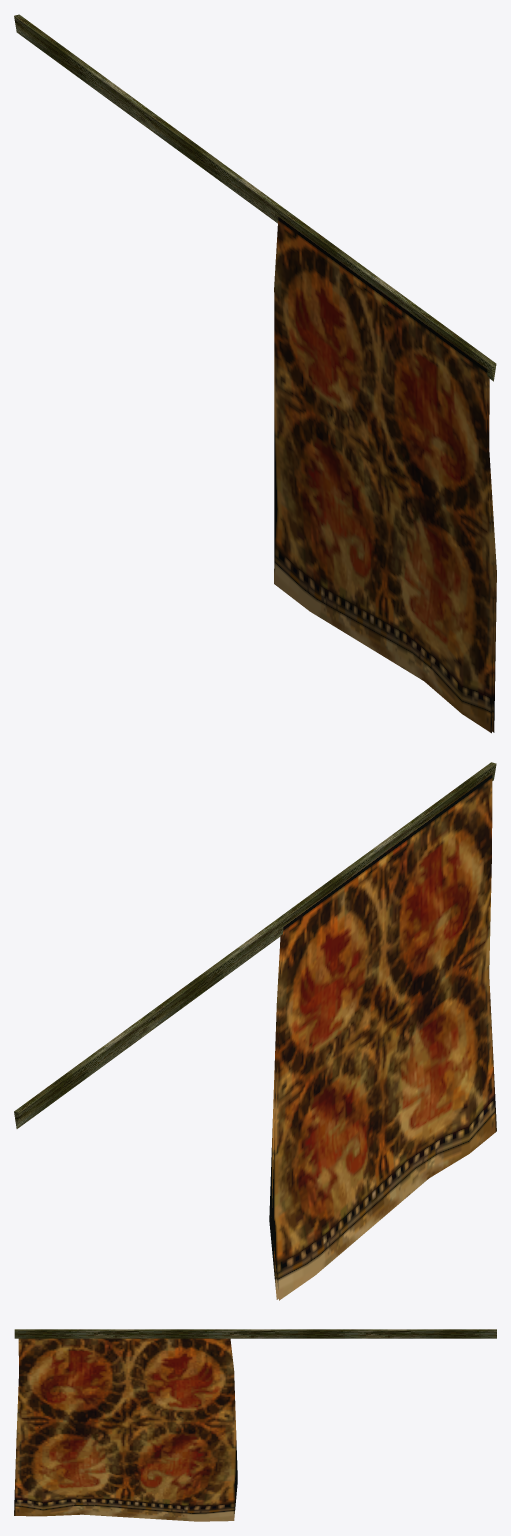
3 renders of one model, top to bottom at view 1: azimuth 30°, elevation 25°; view 2: azimuth 150°, elevation 25°; view 3: azimuth 270°, elevation 25°, orthographic. The views are drawn at different scales.
Visible parts, largest first — view 1: TN2_F2; view 2: TN2_F2; view 3: TN2_F2.
Boxes of the visible parts, bbox=[...] form: TN2_F2: bbox=[14, 14, 496, 733]; TN2_F2: bbox=[14, 762, 496, 1300]; TN2_F2: bbox=[14, 1329, 496, 1521].
Bounding box in the file's own units: 0.0394 × 1.42 × 3.23.
Materials: 2 (2 with a texture image).
